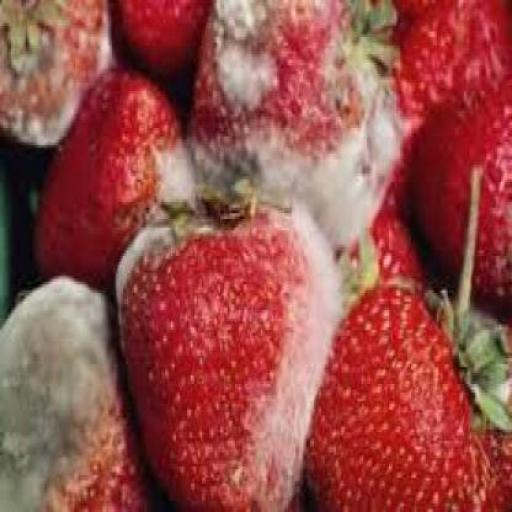biodegradable: (1, 0, 510, 510), (112, 179, 341, 509), (301, 159, 510, 509), (182, 0, 420, 256), (0, 273, 156, 510), (26, 63, 180, 273), (370, 0, 511, 206), (412, 74, 510, 321), (0, 0, 108, 136), (106, 0, 216, 96), (332, 202, 422, 290), (0, 139, 26, 316)
